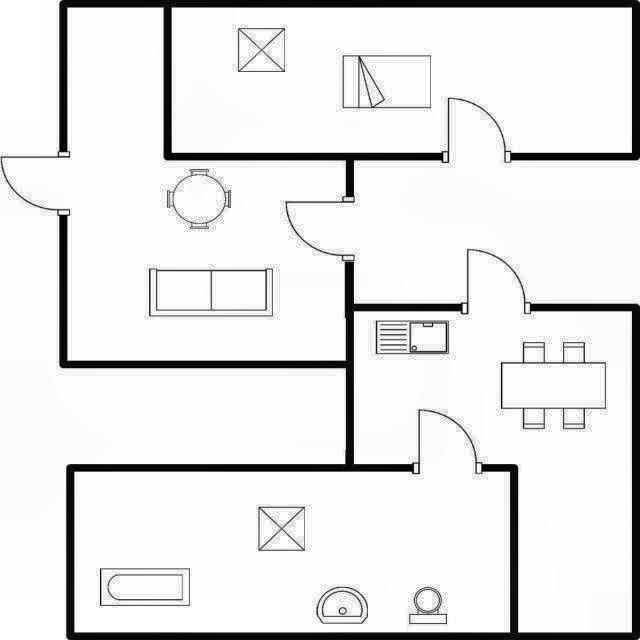room: (67, 7, 346, 361), (354, 311, 632, 633), (74, 472, 510, 633), (171, 7, 631, 153)
